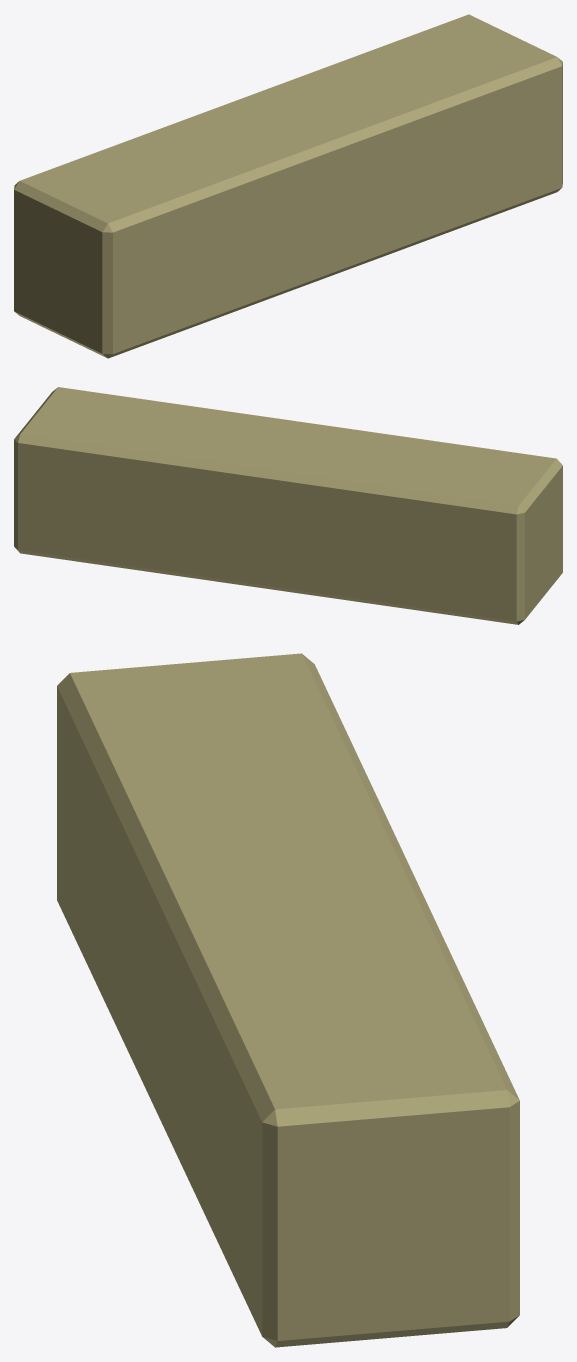
Rendered from SM_Butter.fbx.
The picture shows the model from 3 angles, top to bottom: view 1: azimuth 30°, elevation 25°; view 2: azimuth 150°, elevation 25°; view 3: azimuth 270°, elevation 25°; orthographic projection. The views are drawn at different scales.
Parts seen in each view (by area): view 1: pCube63; view 2: pCube63; view 3: pCube63.
Boxes of the visible parts, left/top/right/bottom form: pCube63: left=14, top=14, right=562, bottom=358; pCube63: left=14, top=387, right=562, bottom=624; pCube63: left=57, top=653, right=519, bottom=1347.
Bounding box in the file's own units: 1471 × 350 × 617.
